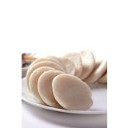idly: (53, 74, 93, 111), (39, 69, 65, 106), (80, 50, 93, 78), (94, 58, 107, 86), (61, 55, 75, 74)
